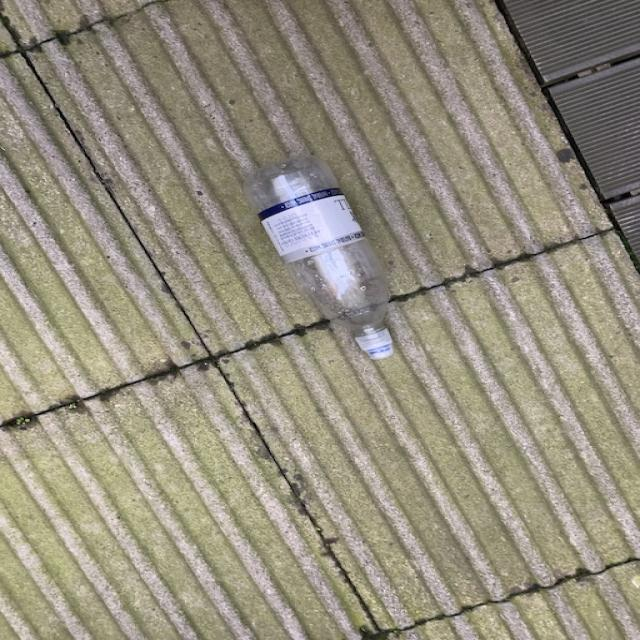Waste: (244, 156, 394, 359)
